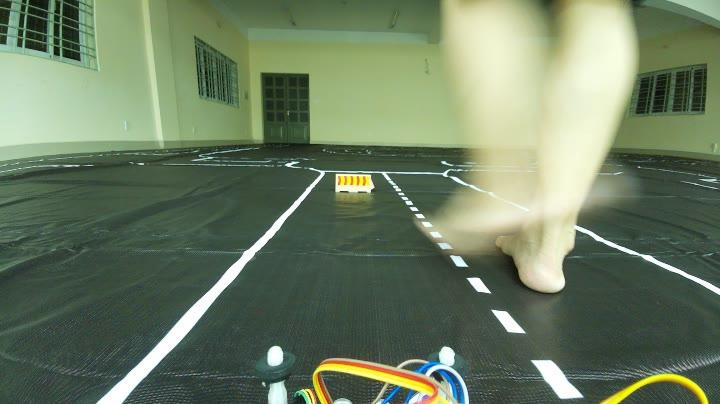roadblock: (322, 169, 386, 202)
